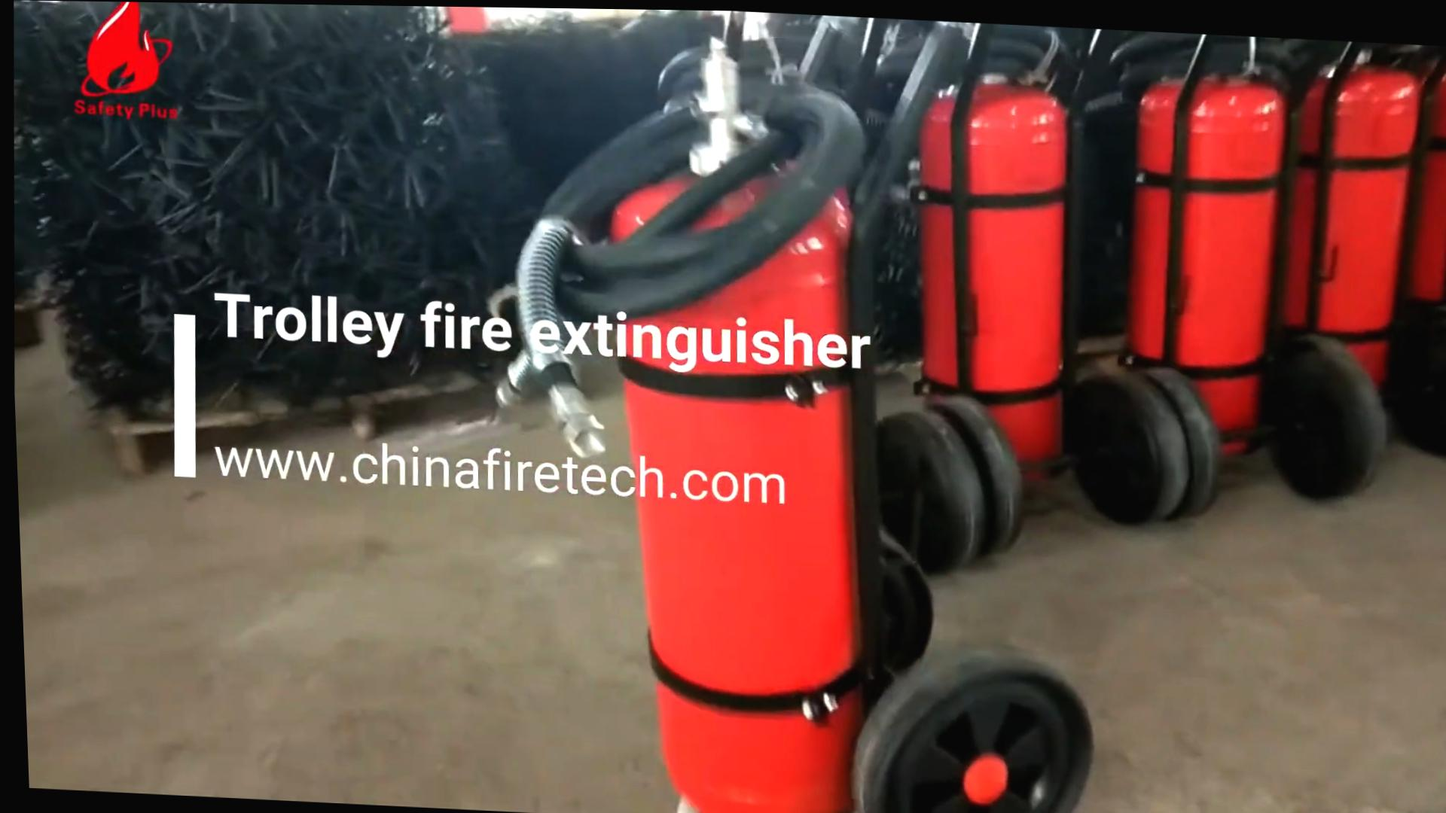FireExtinguisher: (544, 57, 889, 813), (878, 28, 1118, 563), (1086, 25, 1323, 522), (1253, 33, 1436, 466)
